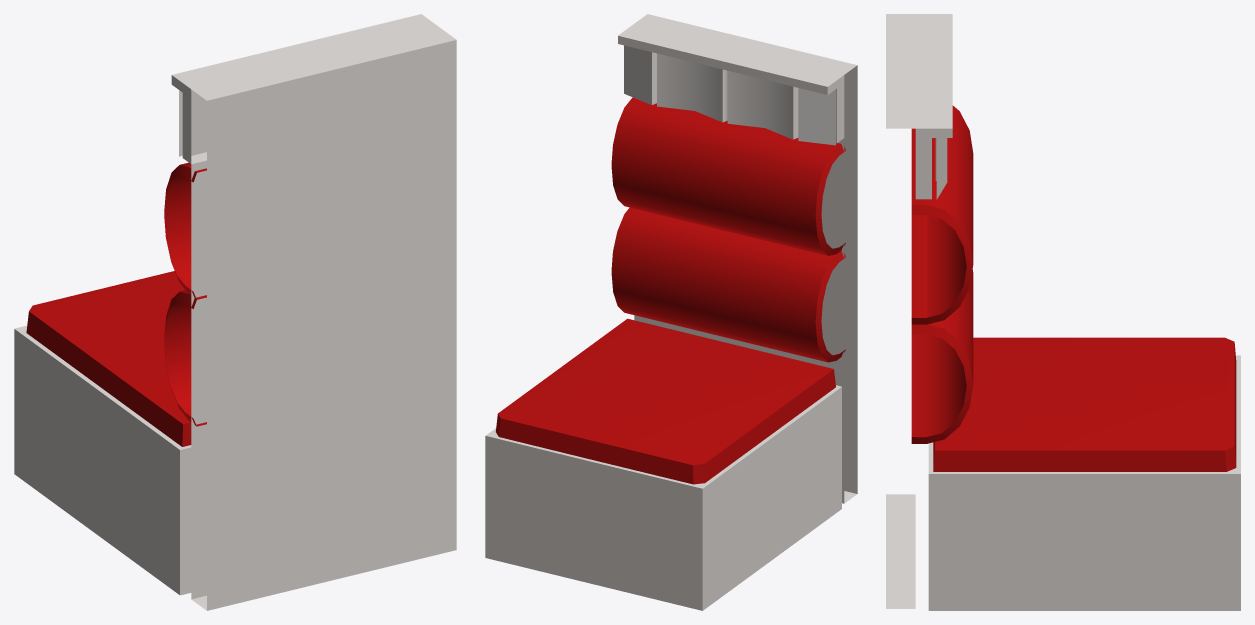
The model's file is SM_seat_mod_03.fbx.
3 renders of one model, left to right at view 1: azimuth 30°, elevation 25°; view 2: azimuth 150°, elevation 25°; view 3: azimuth 270°, elevation 25°, orthographic. The views are drawn at different scales.
Parts seen in each view (by area): view 1: seat_mod_03; view 2: seat_mod_03; view 3: seat_mod_03.
Boxes of the visible parts, box(x1,y1,x2,y2) form: seat_mod_03: box(14, 14, 456, 610); seat_mod_03: box(485, 14, 857, 610); seat_mod_03: box(886, 14, 1240, 610).
Bounding box in the file's own units: 52.05 × 98.2 × 65.76.
